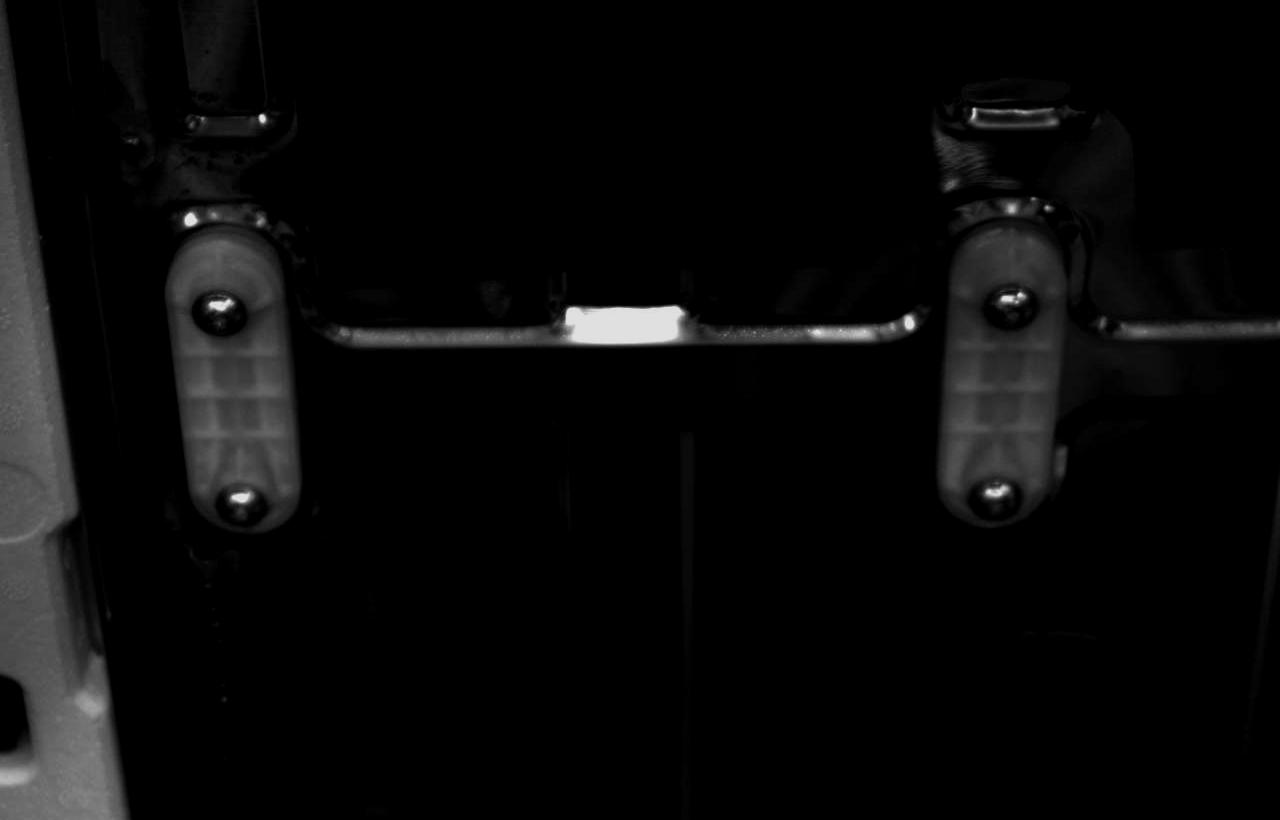vida-ok: (186, 281, 257, 348), (963, 459, 1029, 528), (980, 274, 1047, 341), (210, 475, 276, 534)
